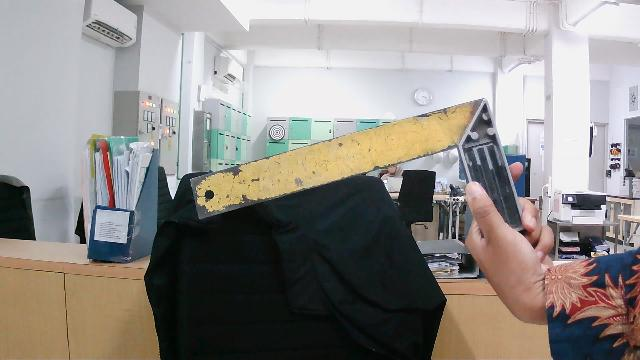penggaris_siku: (183, 78, 530, 249)
